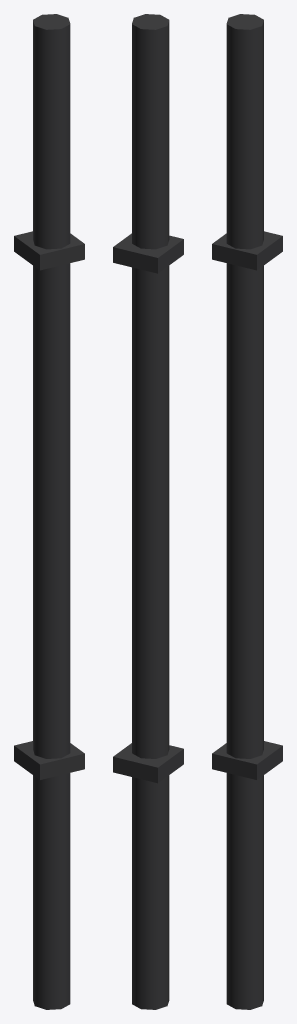
The model's file is downpipe.glb.
The picture shows the model from 3 angles, left to right: view 1: azimuth 30°, elevation 25°; view 2: azimuth 150°, elevation 25°; view 3: azimuth 330°, elevation 25°; orthographic projection.
Visible parts, largest first — view 1: downpipe; view 2: downpipe; view 3: downpipe.
Boxes of the visible parts, box(x1,y1,x2,y2) form: downpipe: box(14, 14, 84, 1009); downpipe: box(113, 14, 183, 1009); downpipe: box(212, 14, 282, 1009).
Bounding box in the file's own units: 0.12 × 2.5 × 0.12.
1 material, 1 textured.
